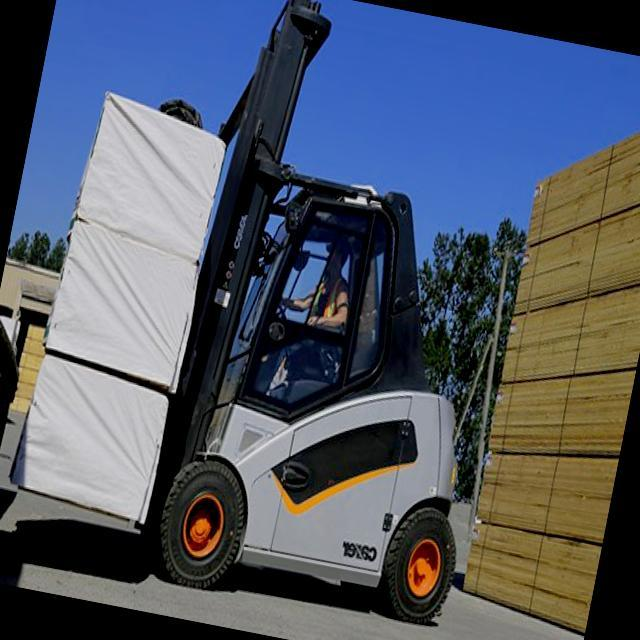driver: (259, 226, 359, 404)
forklift: (127, 0, 575, 640)
